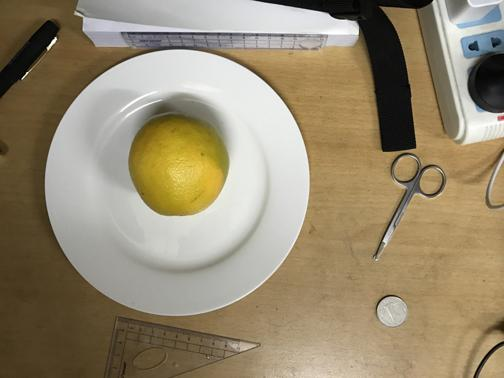coin: (377, 293, 408, 328)
orange: (129, 113, 229, 214)
